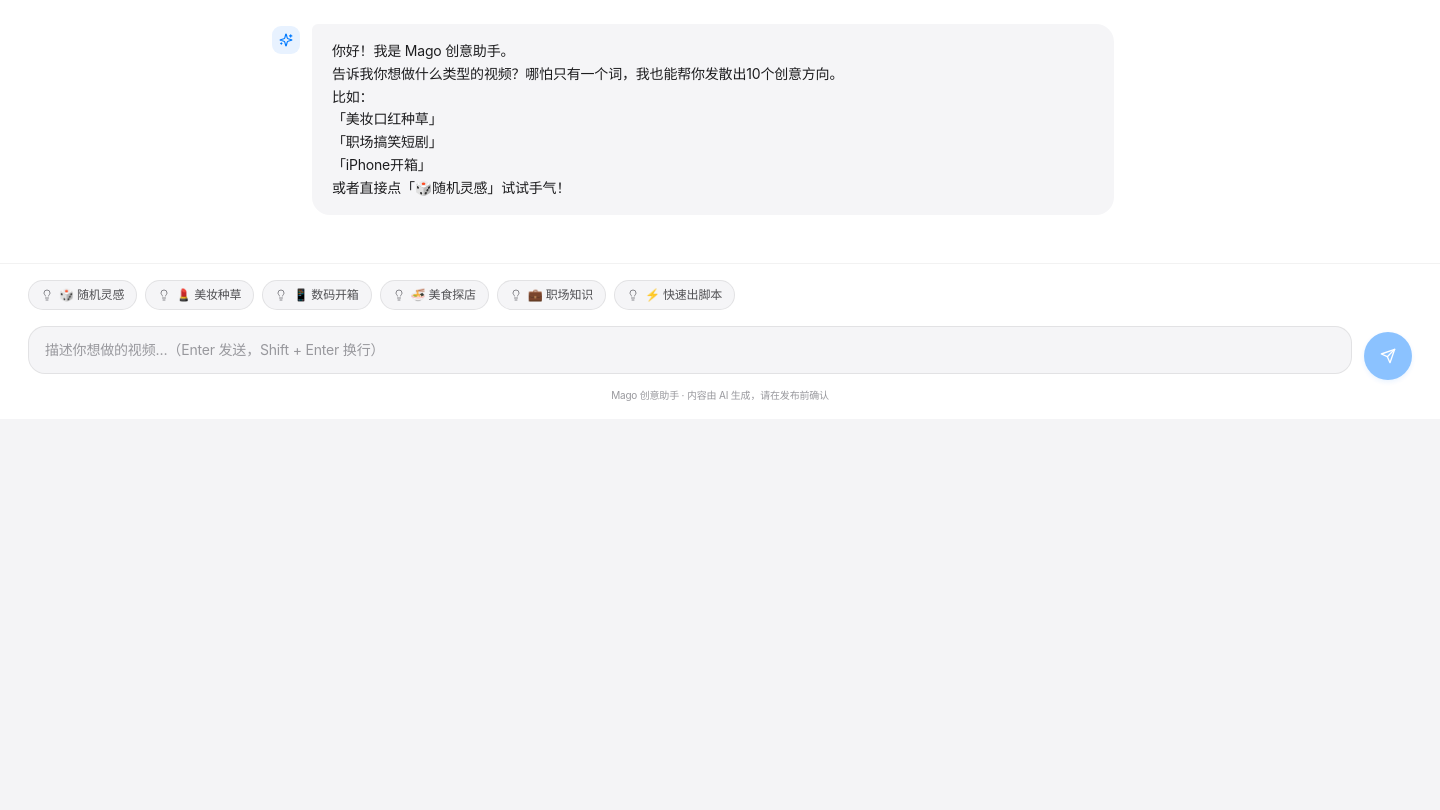
Test: ChatInterface HITL gate › renders the pending gate banner from the done event
In the text box: x=690, y=350 [28, 326, 1352, 374], type "口红测评"
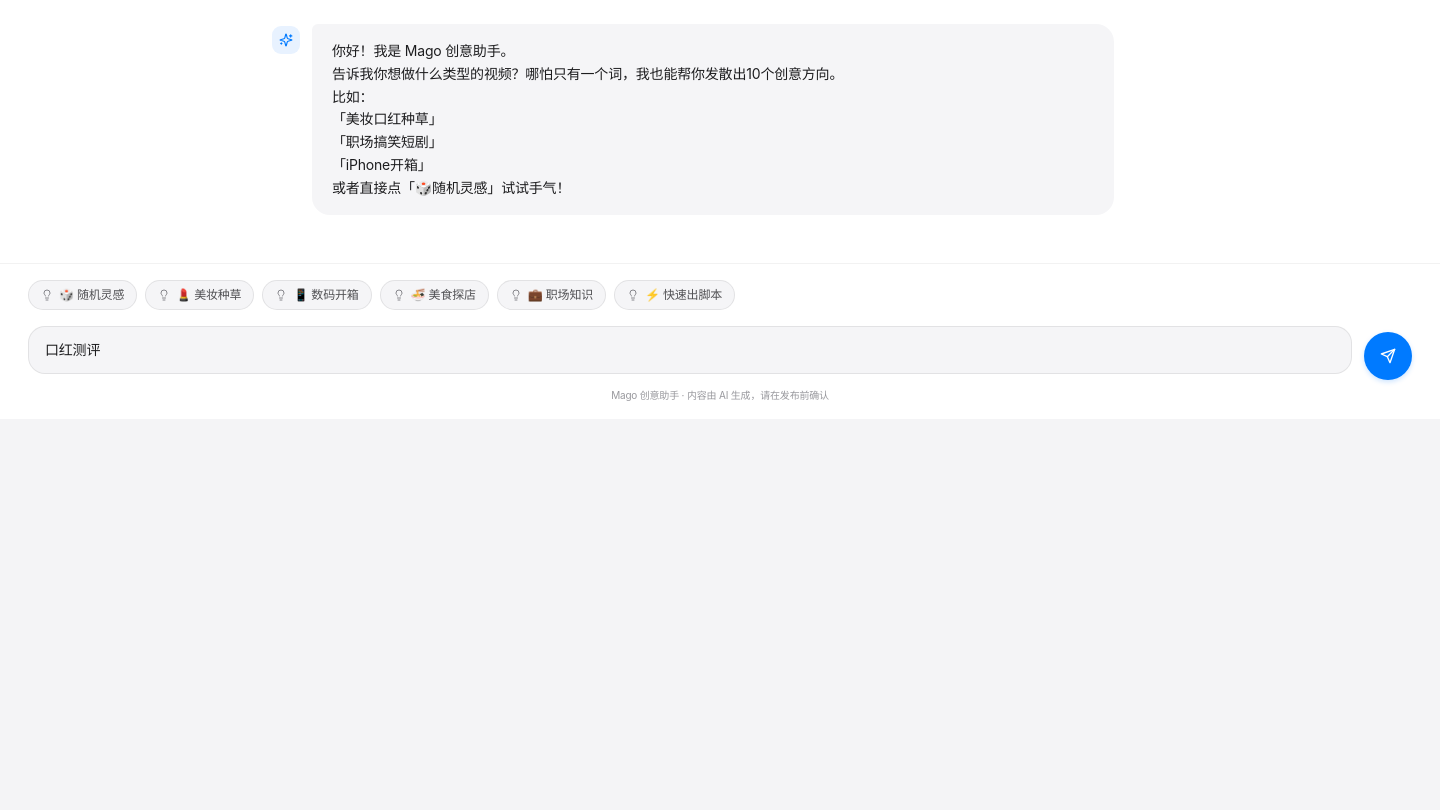
Click the button named "发送消息": x=1388, y=356 [1364, 332, 1412, 380]
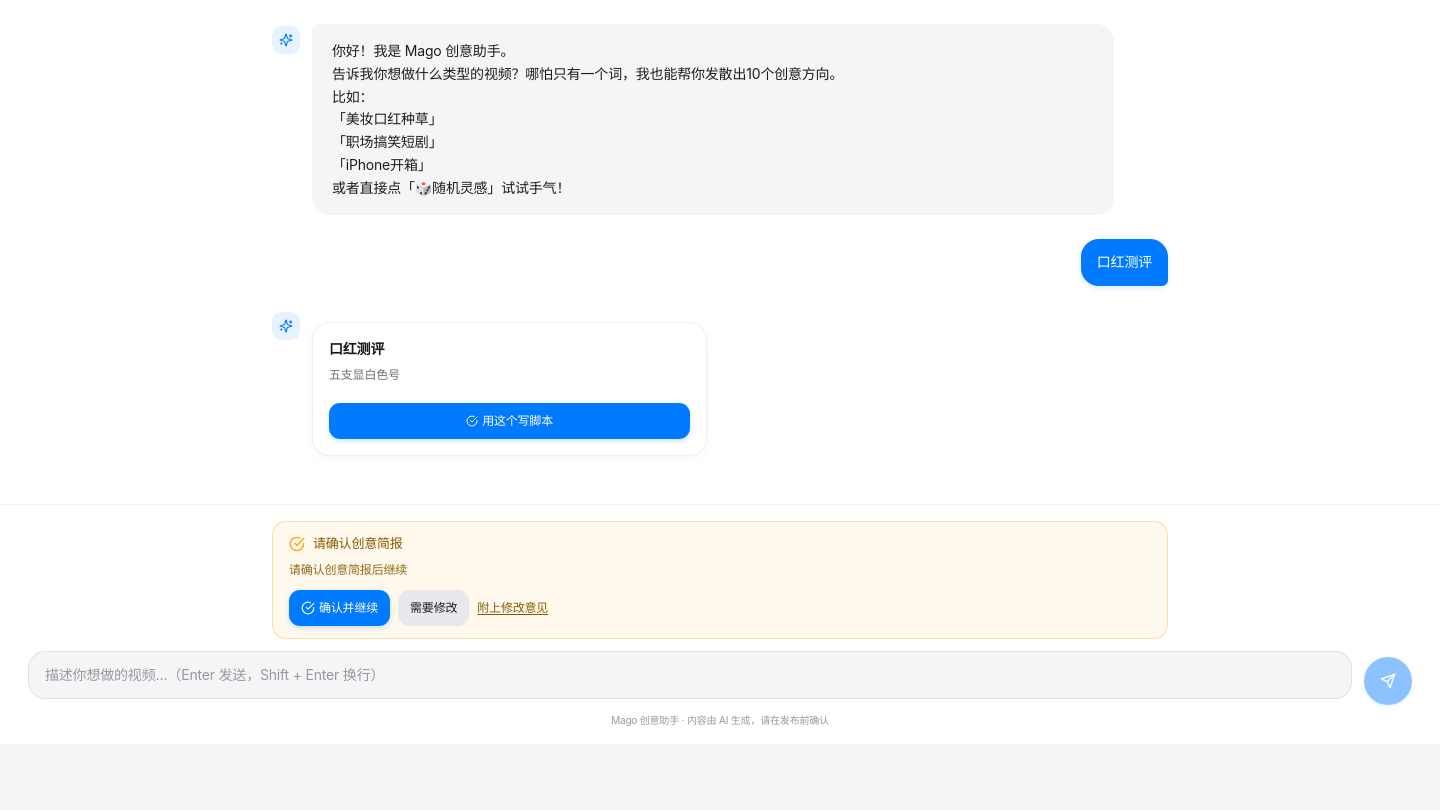
Now the text "请确认创意简报" is shown, box [313, 534, 403, 554]
Now the text "请确认创意简报后继续" is shown, box [289, 562, 407, 576]
Now the button "确认并继续" is shown, box [289, 590, 390, 626]
